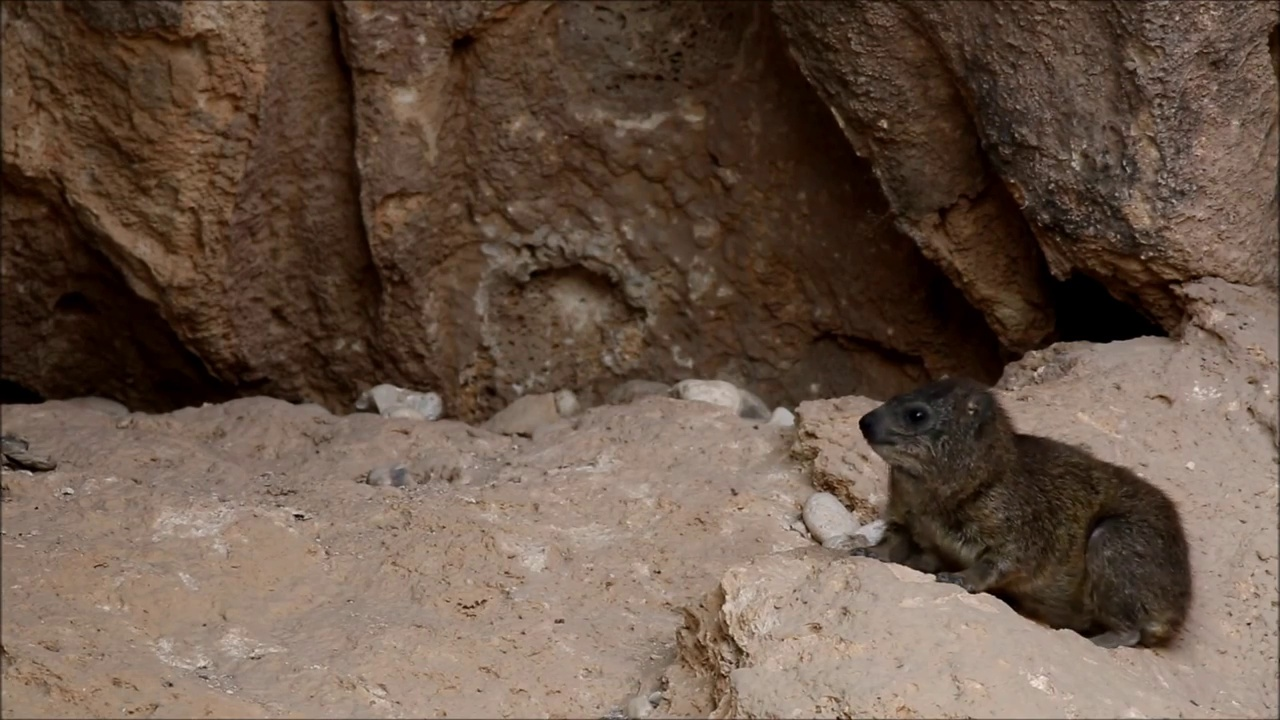Rock Hyrex: (863, 372, 1195, 652)
